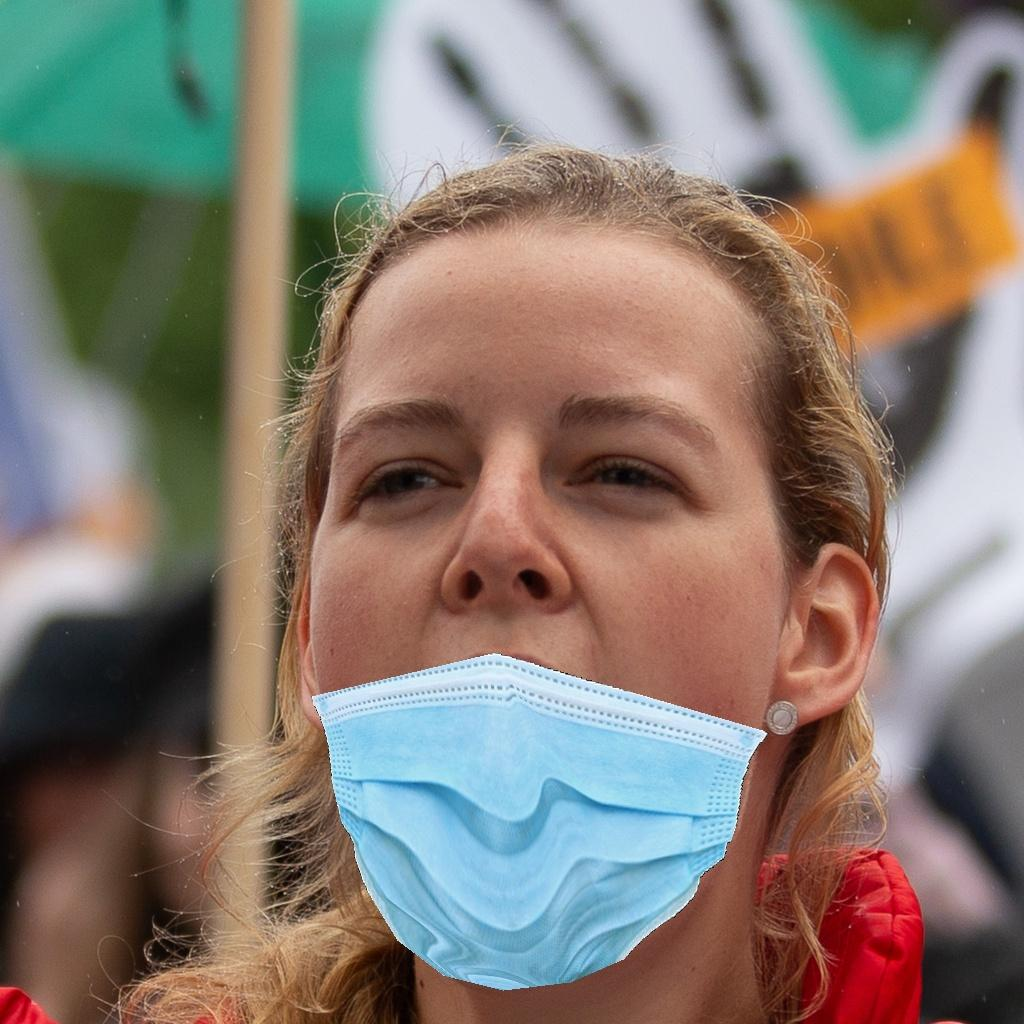Máscara Incorreta: (290, 310, 790, 936)
